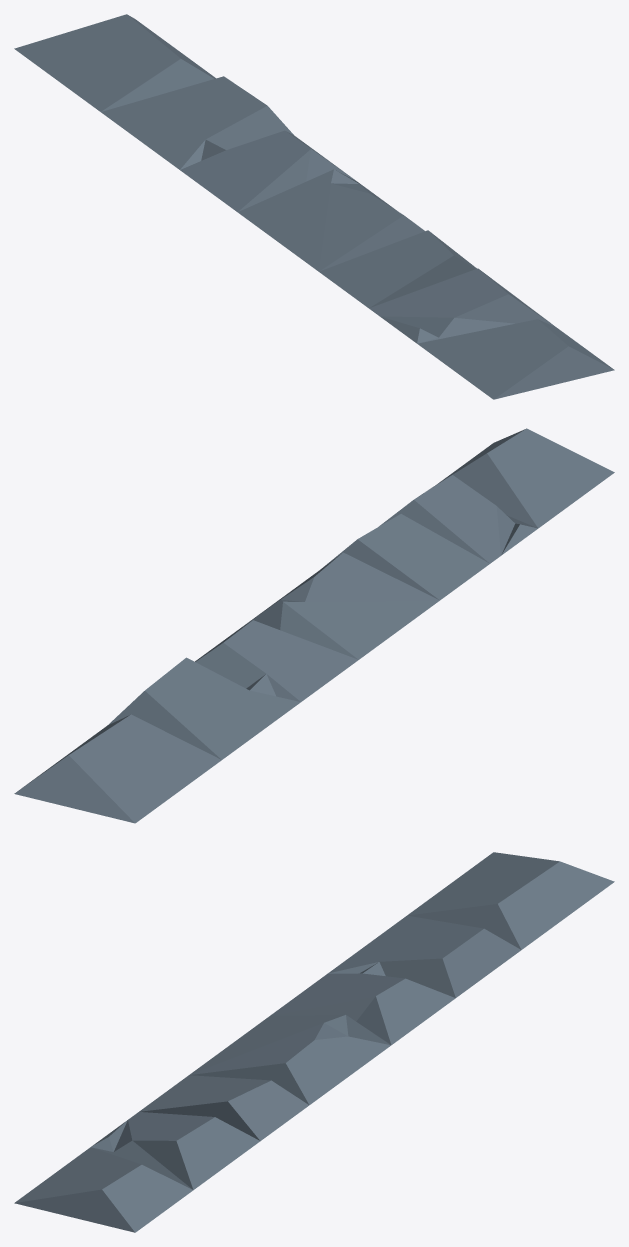
File: VolumeSkirting_02.fbx
3 renders of one model, top to bottom at view 1: azimuth 30°, elevation 25°; view 2: azimuth 150°, elevation 25°; view 3: azimuth 330°, elevation 25°, orthographic.
Parts seen in each view (by area): view 1: VolumeSkirting_02; view 2: VolumeSkirting_02; view 3: VolumeSkirting_02.
Part boxes in pixels (<box>): VolumeSkirting_02: <box>14,14,614,399</box>; VolumeSkirting_02: <box>14,428,614,823</box>; VolumeSkirting_02: <box>14,852,614,1232</box>.
Size of the model in its own units: 11.11 by 2.65 by 76.01.
Materials: 1 (1 with a texture image).
